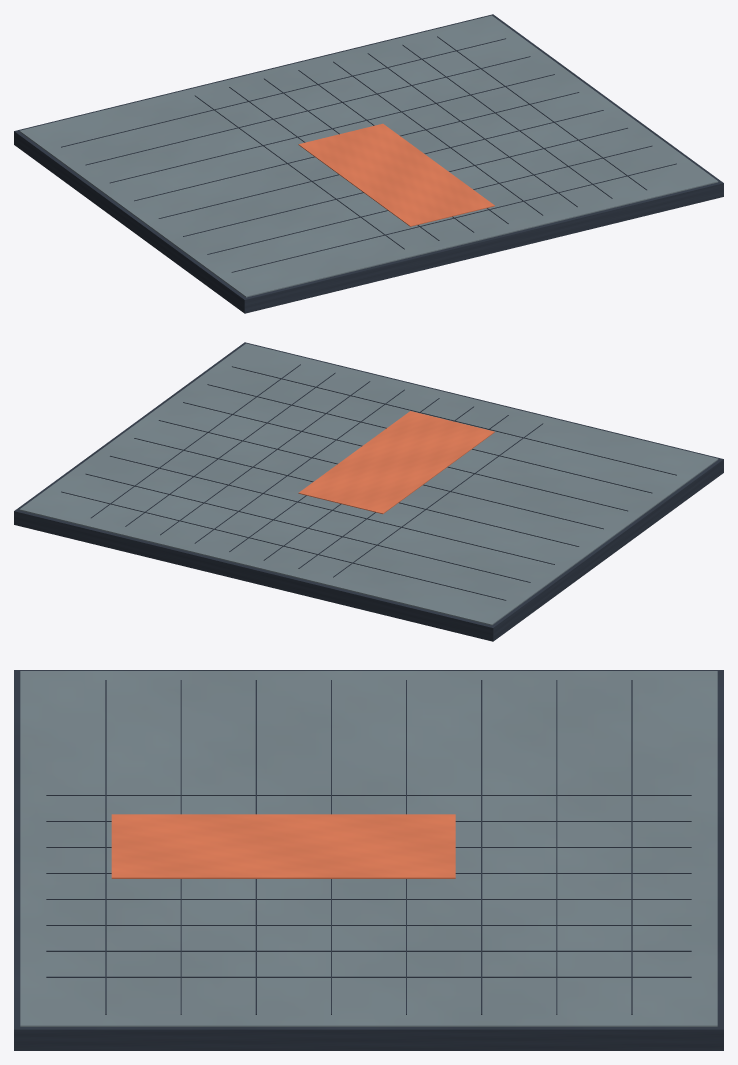
Rendered from atlas100-s022-a07.lod1.glb.
3 renders of one model, top to bottom at view 1: azimuth 30°, elevation 25°; view 2: azimuth 150°, elevation 25°; view 3: azimuth 270°, elevation 25°, orthographic. The views are drawn at different scales.
Parts seen in each view (by area): view 1: atlas100-s022-a07:part-001, atlas100-s022-a07:part-000, atlas100-s022-a07:part-021, atlas100-s022-a07:part-014, atlas100-s022-a07:part-020, atlas100-s022-a07:part-015, atlas100-s022-a07:part-013, atlas100-s022-a07:part-016, atlas100-s022-a07:part-018, atlas100-s022-a07:part-019, atlas100-s022-a07:part-017; view 2: atlas100-s022-a07:part-001, atlas100-s022-a07:part-000, atlas100-s022-a07:part-021, atlas100-s022-a07:part-013, atlas100-s022-a07:part-015, atlas100-s022-a07:part-014, atlas100-s022-a07:part-020, atlas100-s022-a07:part-017, atlas100-s022-a07:part-019, atlas100-s022-a07:part-018, atlas100-s022-a07:part-016; view 3: atlas100-s022-a07:part-001, atlas100-s022-a07:part-000, atlas100-s022-a07:part-021, atlas100-s022-a07:part-011, atlas100-s022-a07:part-012, atlas100-s022-a07:part-013, atlas100-s022-a07:part-014, atlas100-s022-a07:part-015, atlas100-s022-a07:part-020, atlas100-s022-a07:part-010, atlas100-s022-a07:part-009, atlas100-s022-a07:part-005.
Boxes of the visible parts, x1,y1,x2,y2 form: atlas100-s022-a07:part-001: [19, 15, 718, 297]; atlas100-s022-a07:part-000: [14, 14, 723, 313]; atlas100-s022-a07:part-021: [298, 123, 494, 226]; atlas100-s022-a07:part-014: [85, 56, 530, 165]; atlas100-s022-a07:part-020: [231, 163, 676, 272]; atlas100-s022-a07:part-015: [110, 74, 554, 183]; atlas100-s022-a07:part-013: [61, 38, 505, 147]; atlas100-s022-a07:part-016: [134, 92, 579, 201]; atlas100-s022-a07:part-018: [183, 127, 627, 236]; atlas100-s022-a07:part-019: [207, 145, 652, 254]; atlas100-s022-a07:part-017: [158, 110, 603, 218]; atlas100-s022-a07:part-001: [19, 343, 718, 625]; atlas100-s022-a07:part-000: [14, 342, 723, 641]; atlas100-s022-a07:part-021: [298, 411, 494, 513]; atlas100-s022-a07:part-013: [61, 491, 506, 600]; atlas100-s022-a07:part-015: [110, 455, 554, 564]; atlas100-s022-a07:part-014: [85, 473, 530, 582]; atlas100-s022-a07:part-020: [232, 366, 676, 475]; atlas100-s022-a07:part-017: [158, 420, 603, 529]; atlas100-s022-a07:part-019: [207, 384, 652, 493]; atlas100-s022-a07:part-018: [183, 402, 627, 511]; atlas100-s022-a07:part-016: [134, 438, 579, 546]; atlas100-s022-a07:part-001: [20, 671, 717, 1026]; atlas100-s022-a07:part-000: [14, 670, 723, 1050]; atlas100-s022-a07:part-021: [111, 814, 455, 878]; atlas100-s022-a07:part-011: [46, 950, 691, 951]; atlas100-s022-a07:part-012: [46, 976, 691, 977]; atlas100-s022-a07:part-013: [631, 680, 632, 1014]; atlas100-s022-a07:part-014: [556, 680, 557, 1014]; atlas100-s022-a07:part-015: [481, 680, 482, 1014]; atlas100-s022-a07:part-020: [105, 680, 106, 1014]; atlas100-s022-a07:part-010: [46, 925, 691, 925]; atlas100-s022-a07:part-009: [46, 899, 691, 899]; atlas100-s022-a07:part-005: [46, 795, 691, 795].
Bounding box in the file's own units: 12.46 × 0.404 × 10.4.
Materials: 3 (3 with a texture image).
